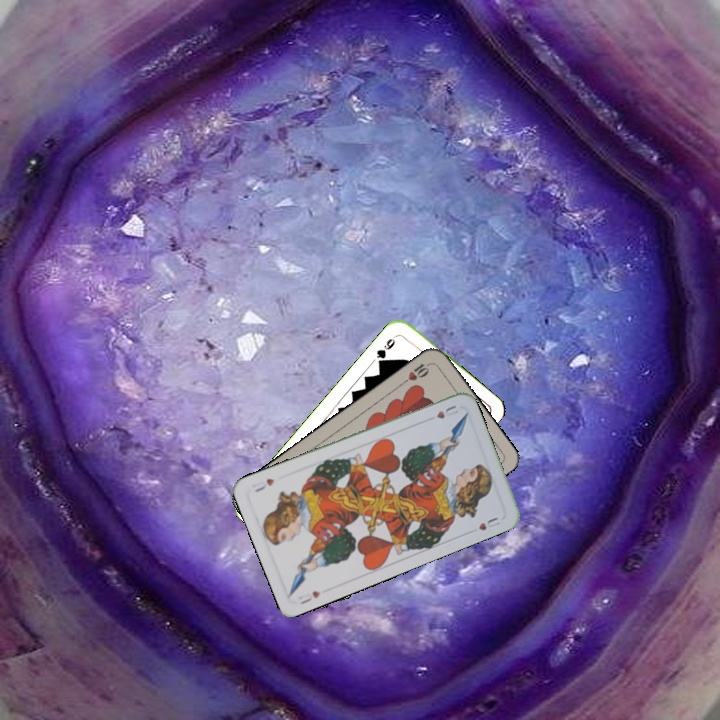G9: (372, 331, 400, 368)
H10: (398, 359, 433, 387)
HU: (432, 401, 461, 421), (295, 587, 323, 607)
